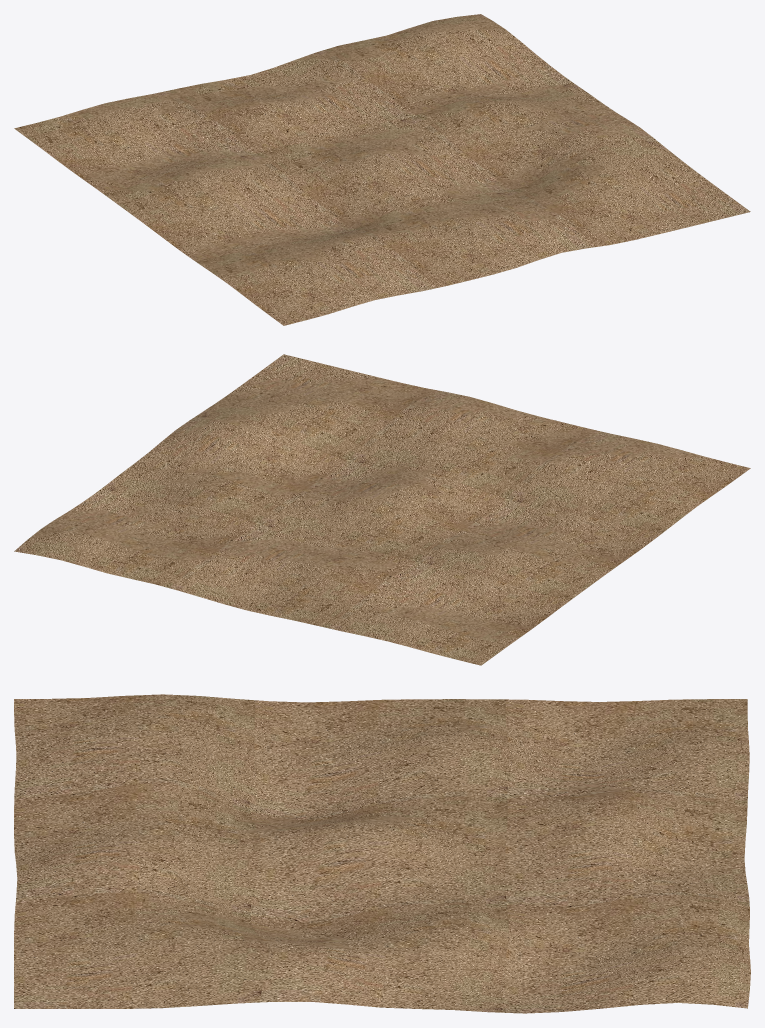
The model's file is Ground.fbx.
3 views of the same model, one above another, from view 1: azimuth 30°, elevation 25°; view 2: azimuth 150°, elevation 25°; view 3: azimuth 270°, elevation 25° (orthographic). The views are drawn at different scales.
Visible parts, largest first — view 1: pPlane1; view 2: pPlane1; view 3: pPlane1.
Boxes of the visible parts, bbox=[...] form: pPlane1: bbox=[14, 14, 750, 325]; pPlane1: bbox=[14, 354, 750, 665]; pPlane1: bbox=[14, 694, 750, 1013].
Bounding box in the file's own units: 50.33 × 2.94 × 50.23.
